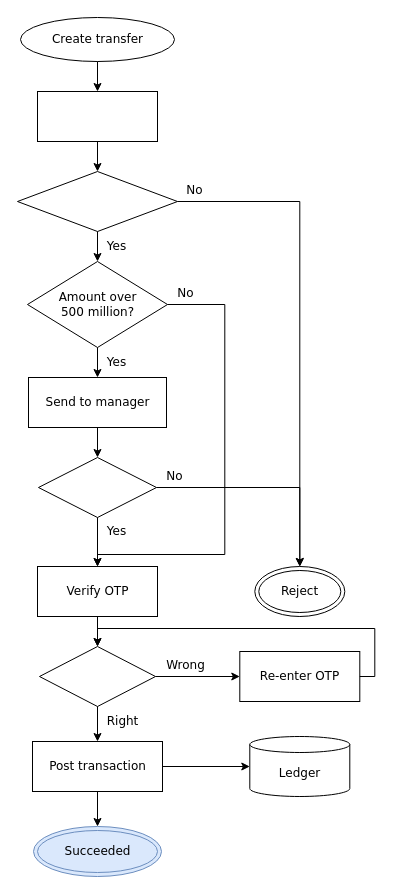
Some shapes in this 401 by 894 pixel diagram are drawn without their labels. The box of each missing label's shape, as (x1, y1, x2, y2) in pixels:
Approved?: (38, 456, 156, 518)
Check balance: (36, 90, 158, 142)
Enough funds?: (16, 170, 178, 232)
OTP valid?: (38, 646, 156, 706)
